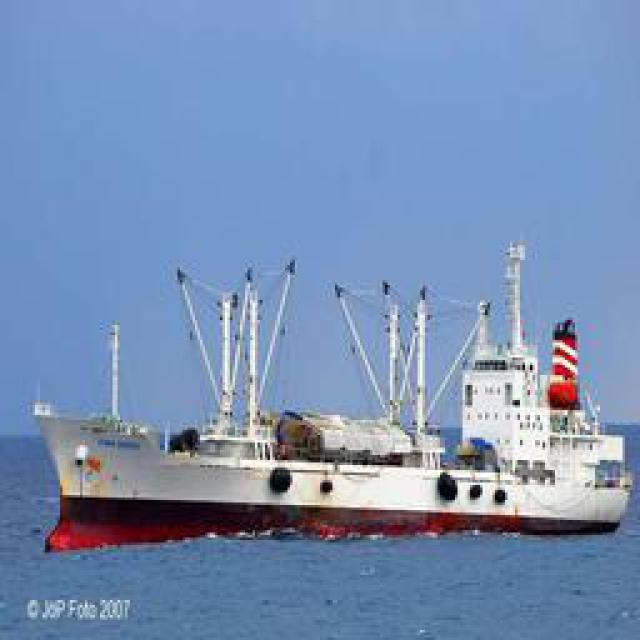Ship: (27, 246, 637, 534)
